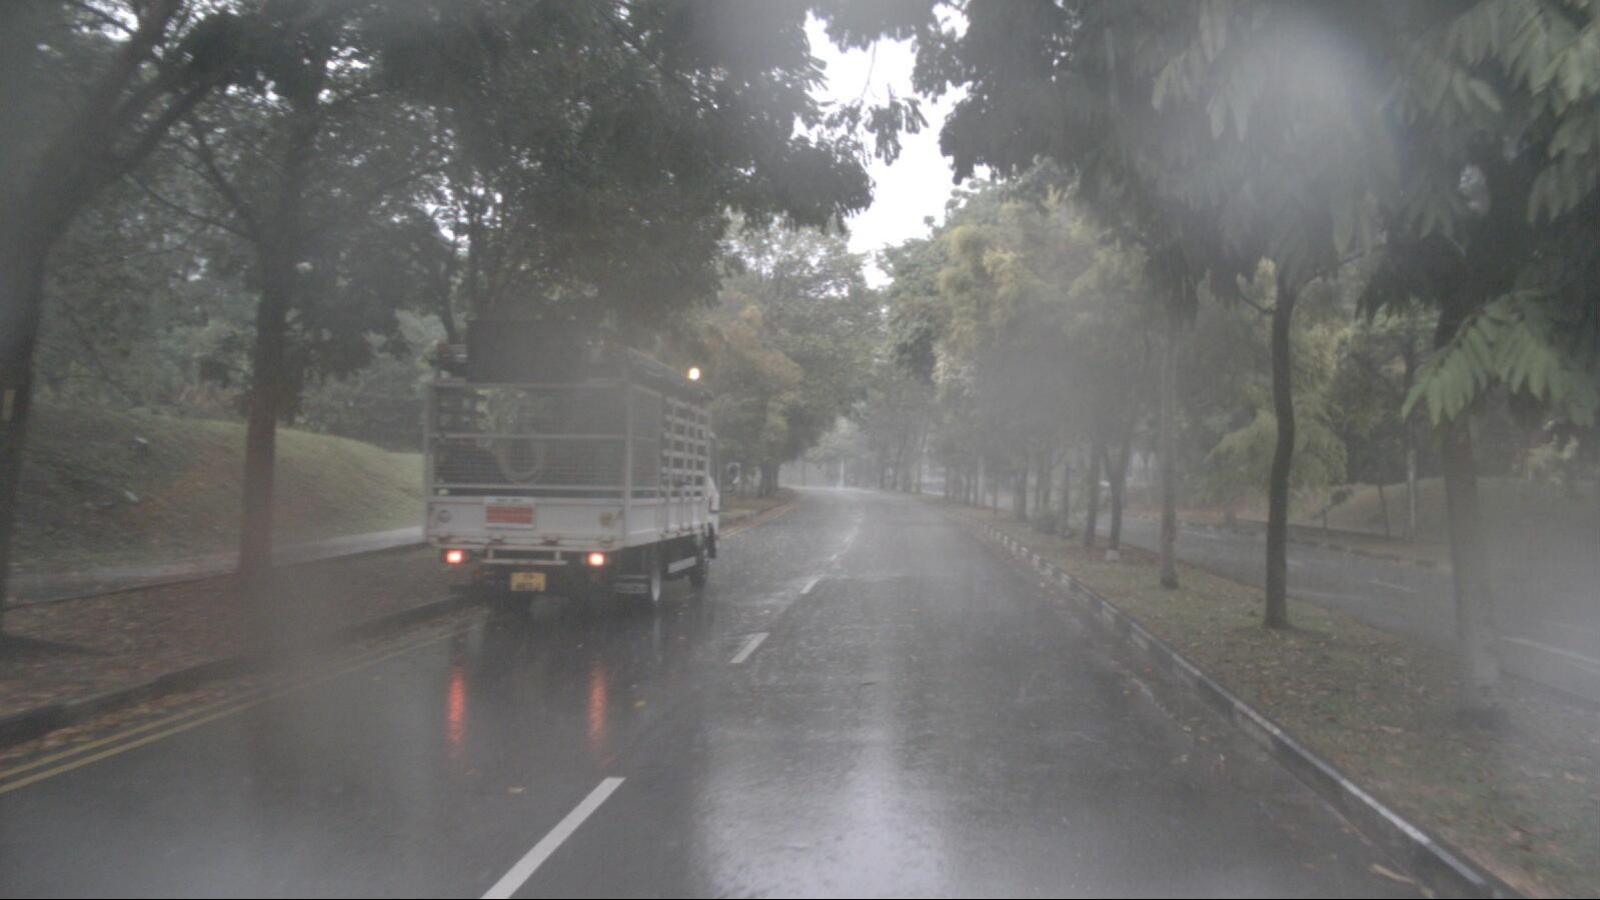human.pedestrian.adult-pedestrian.moving: (728, 463, 739, 492)
